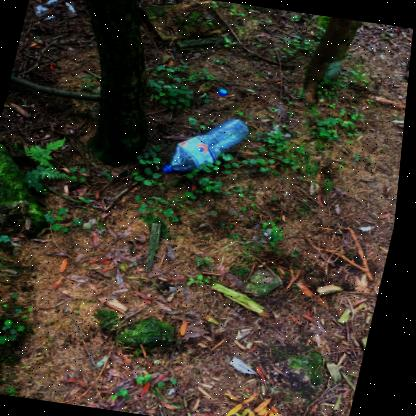Plastic: (164, 117, 250, 172)
Waste: (219, 87, 228, 94)
